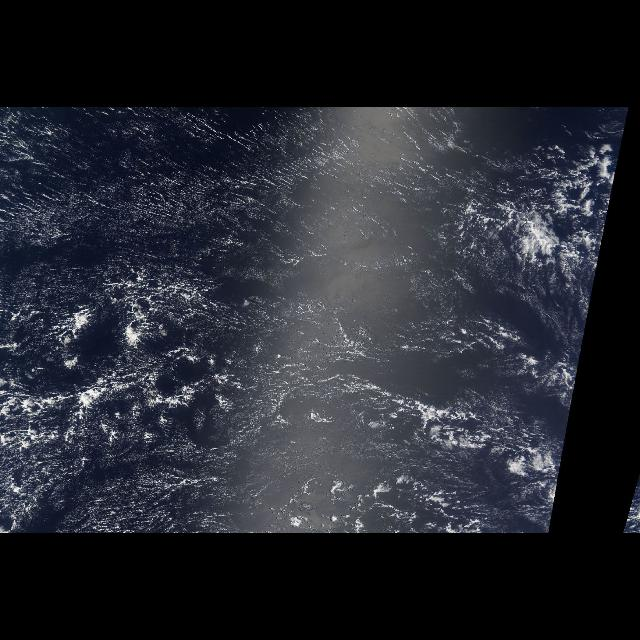Sugar: (1, 107, 632, 533), (622, 473, 640, 533)
